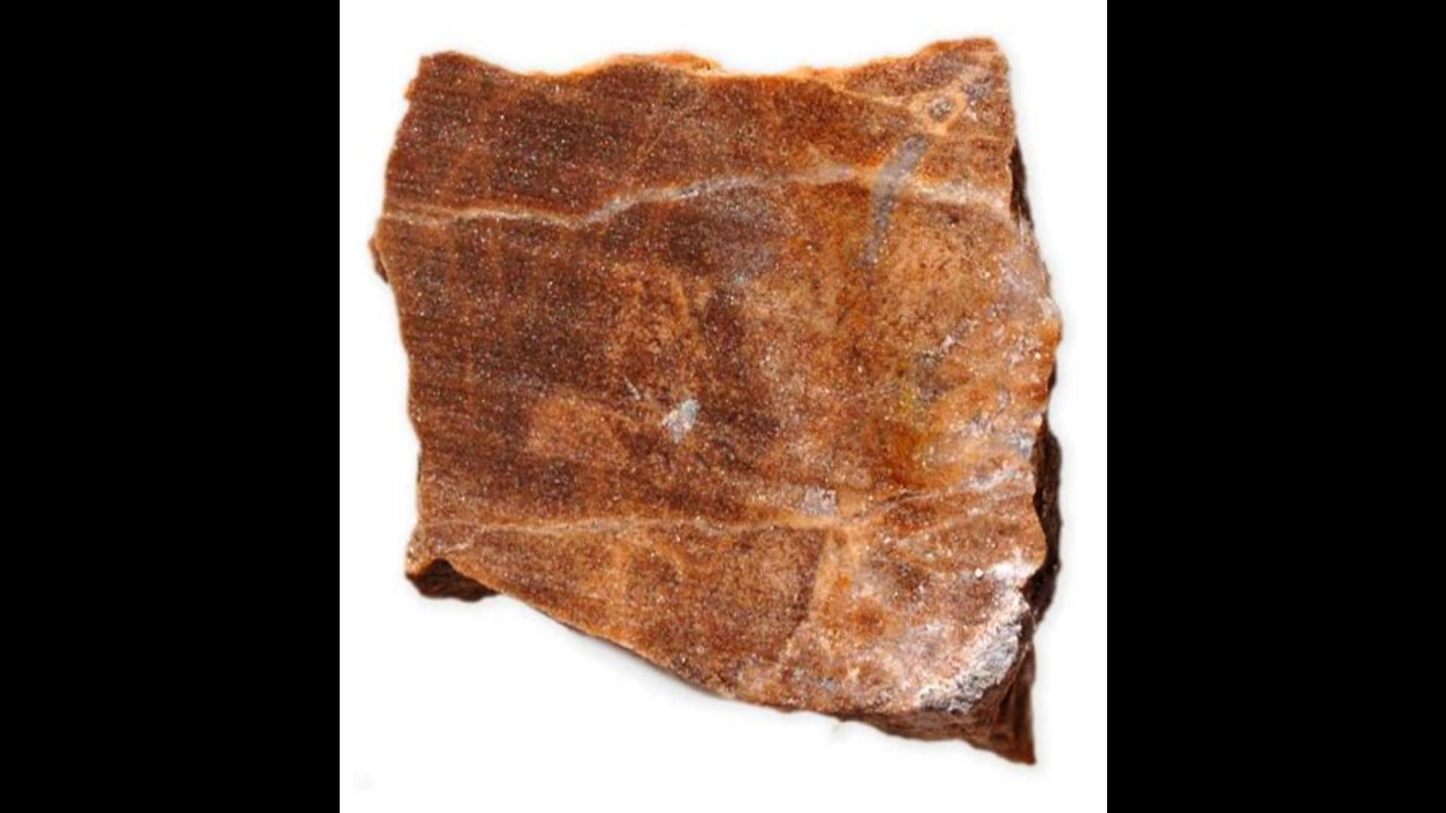rock: (371, 45, 1058, 758)
